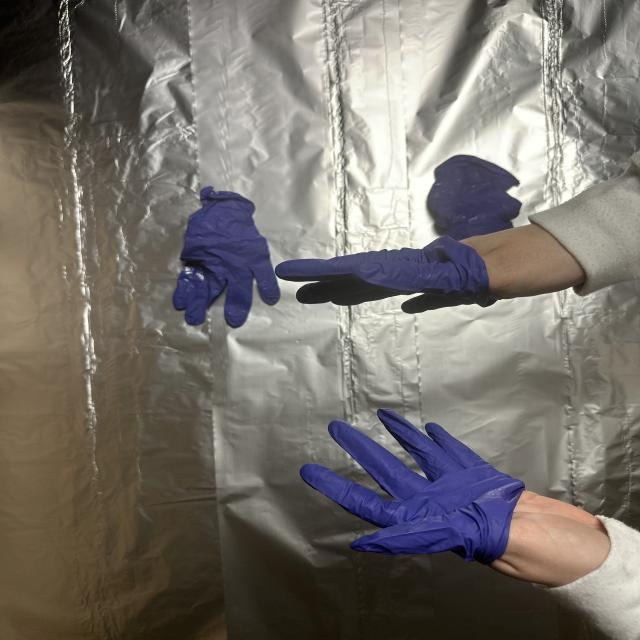glove_partial: (297, 404, 619, 590), (268, 222, 592, 314)
